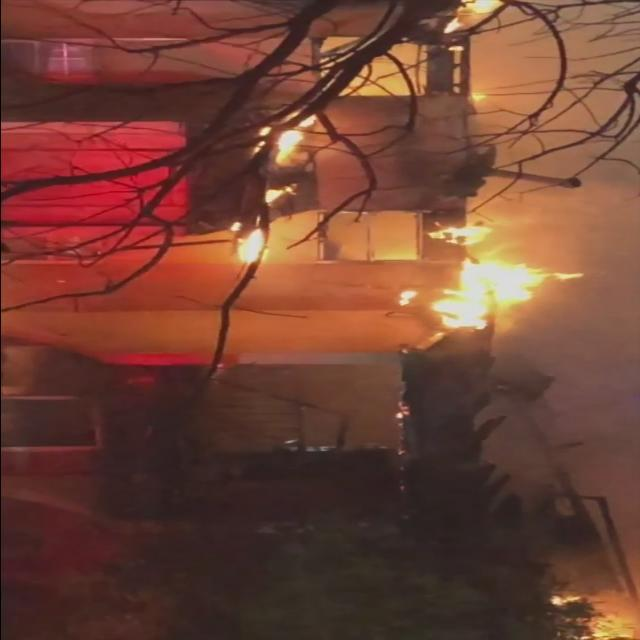Fire: (410, 215, 570, 337)
